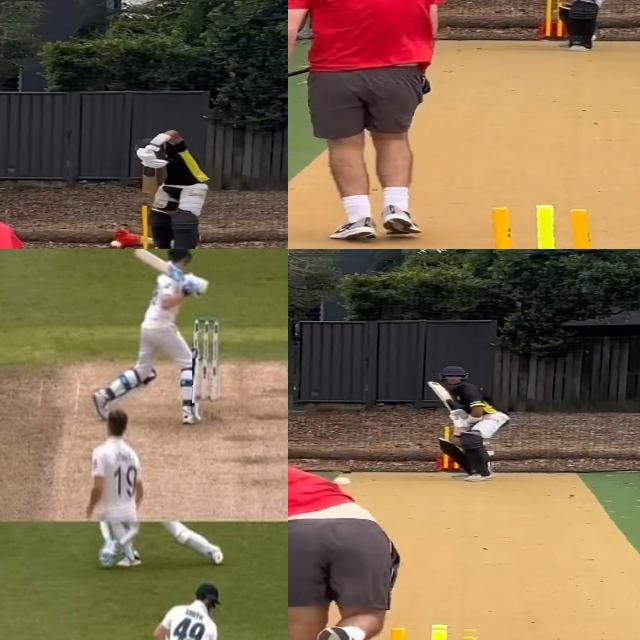Cricket ball: (334, 476, 351, 486), (110, 239, 125, 249)
Stumps: (469, 203, 606, 249), (192, 317, 222, 403)
